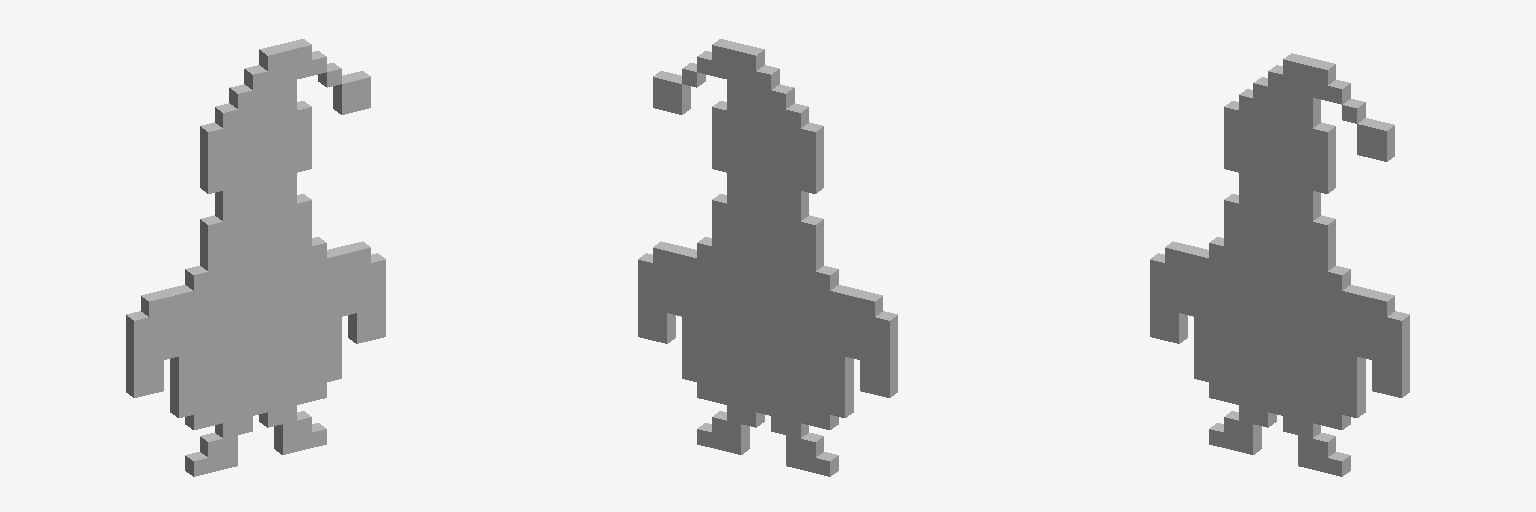
File: дед мороз шаг.obj
3 renders of one model, left to right at view 1: azimuth 30°, elevation 25°; view 2: azimuth 150°, elevation 25°; view 3: azimuth 330°, elevation 25°, orthographic.
Visible parts, largest first — view 1: object 1; view 2: object 1; view 3: object 1.
Boxes of the visible parts, x1,y1,x2,y2 form: object 1: [126, 39, 385, 476]; object 1: [638, 39, 897, 476]; object 1: [1150, 53, 1409, 476].
Size of the model in its own units: 1.7 by 2.6 by 0.1.